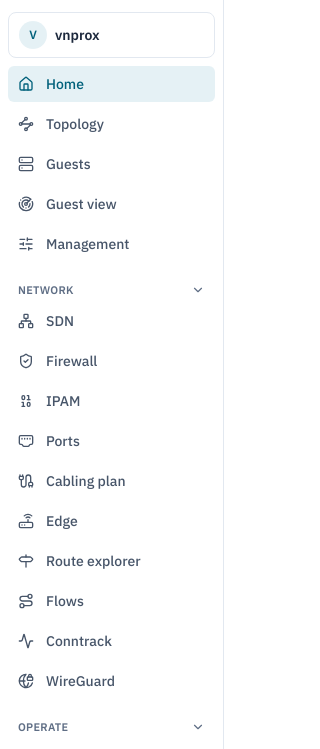
Test case: Sidebar — collapsible groups › collapses a group on click: items leave the DOM, aria-expanded flips, and the choice is written to localStorage
This screenshot has width=320, height=749.
Expected: the link "SDN" is shown, [18,312,74,330]
Click the button "Network" at (112, 290), box [8,278,215,302]
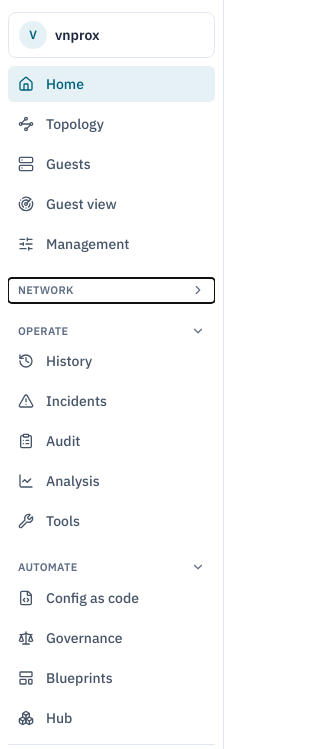
Expected: the button "Network" is collapsed, [8,278,215,302]
Expected: the link "SDN" is gone
